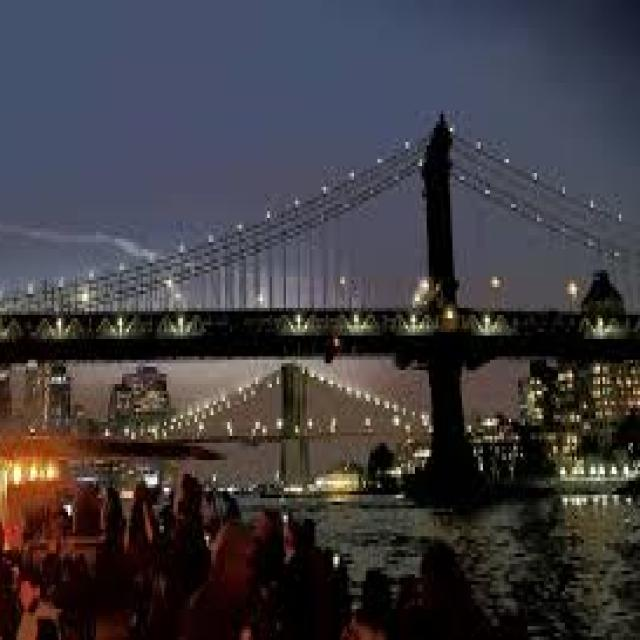Bridges: (0, 96, 640, 474)
